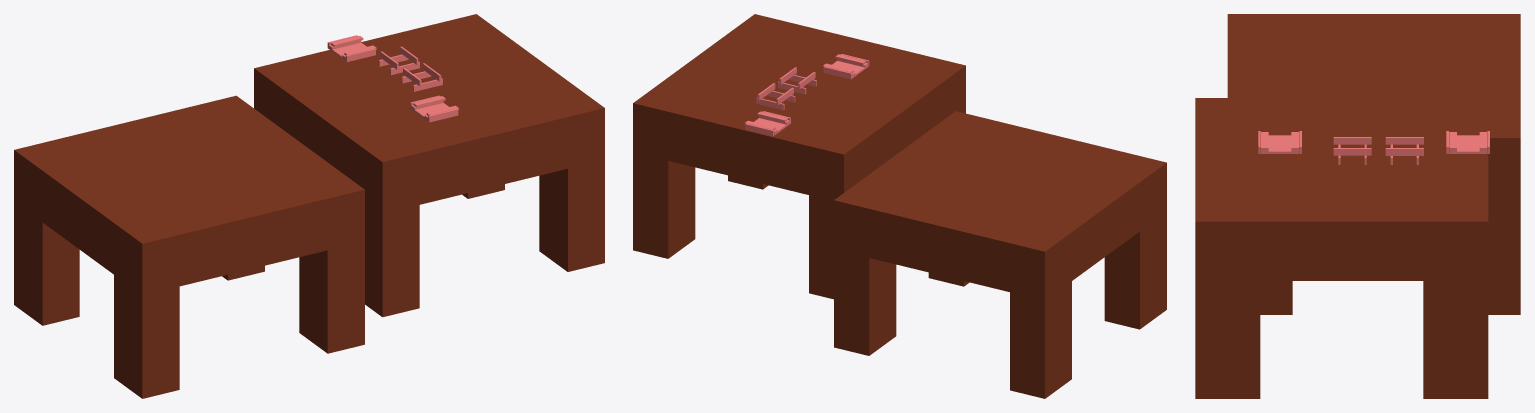
File: keva_double_run_3.dae
The picture shows the model from 3 angles, left to right: view 1: azimuth 30°, elevation 25°; view 2: azimuth 150°, elevation 25°; view 3: azimuth 270°, elevation 25°; orthographic projection. The views are drawn at different scales.
Visible parts, largest first — view 1: base (×7); view 2: base (×7); view 3: base (×12).
Boxes of the visible parts, x1,y1,x2,y2 form: base (×7): [14, 14, 604, 398]; base (×7): [633, 14, 1166, 398]; base (×12): [1195, 14, 1520, 398].
Size of the model in its own units: 1.81 by 0.9991 by 0.7944.
